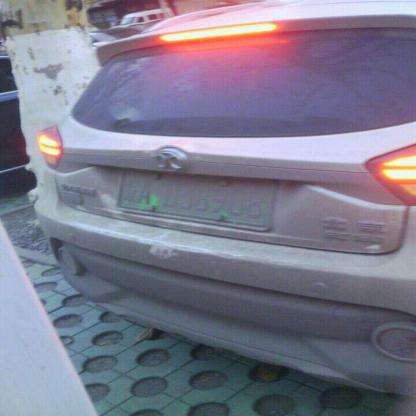lp: (120, 170, 268, 225)
